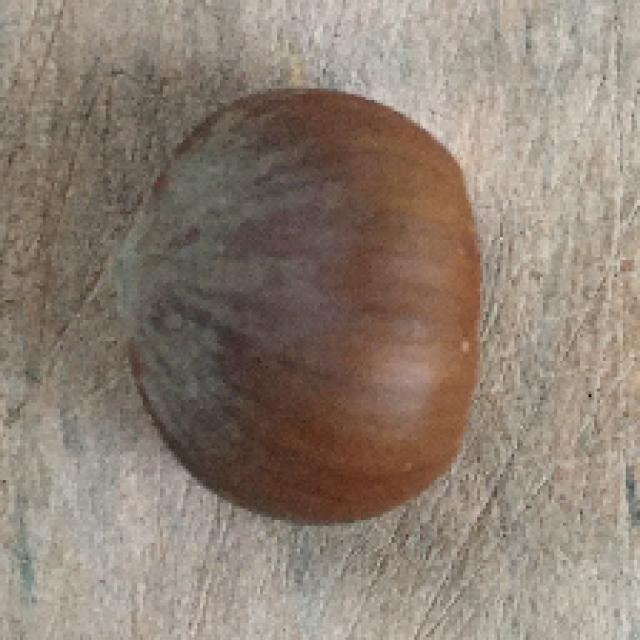qualityHazelnut: (113, 88, 489, 531)
